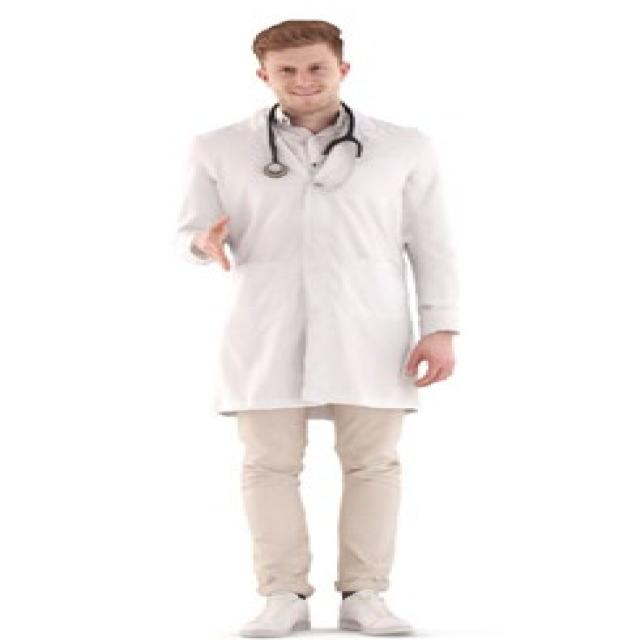standing: (172, 17, 461, 640)
